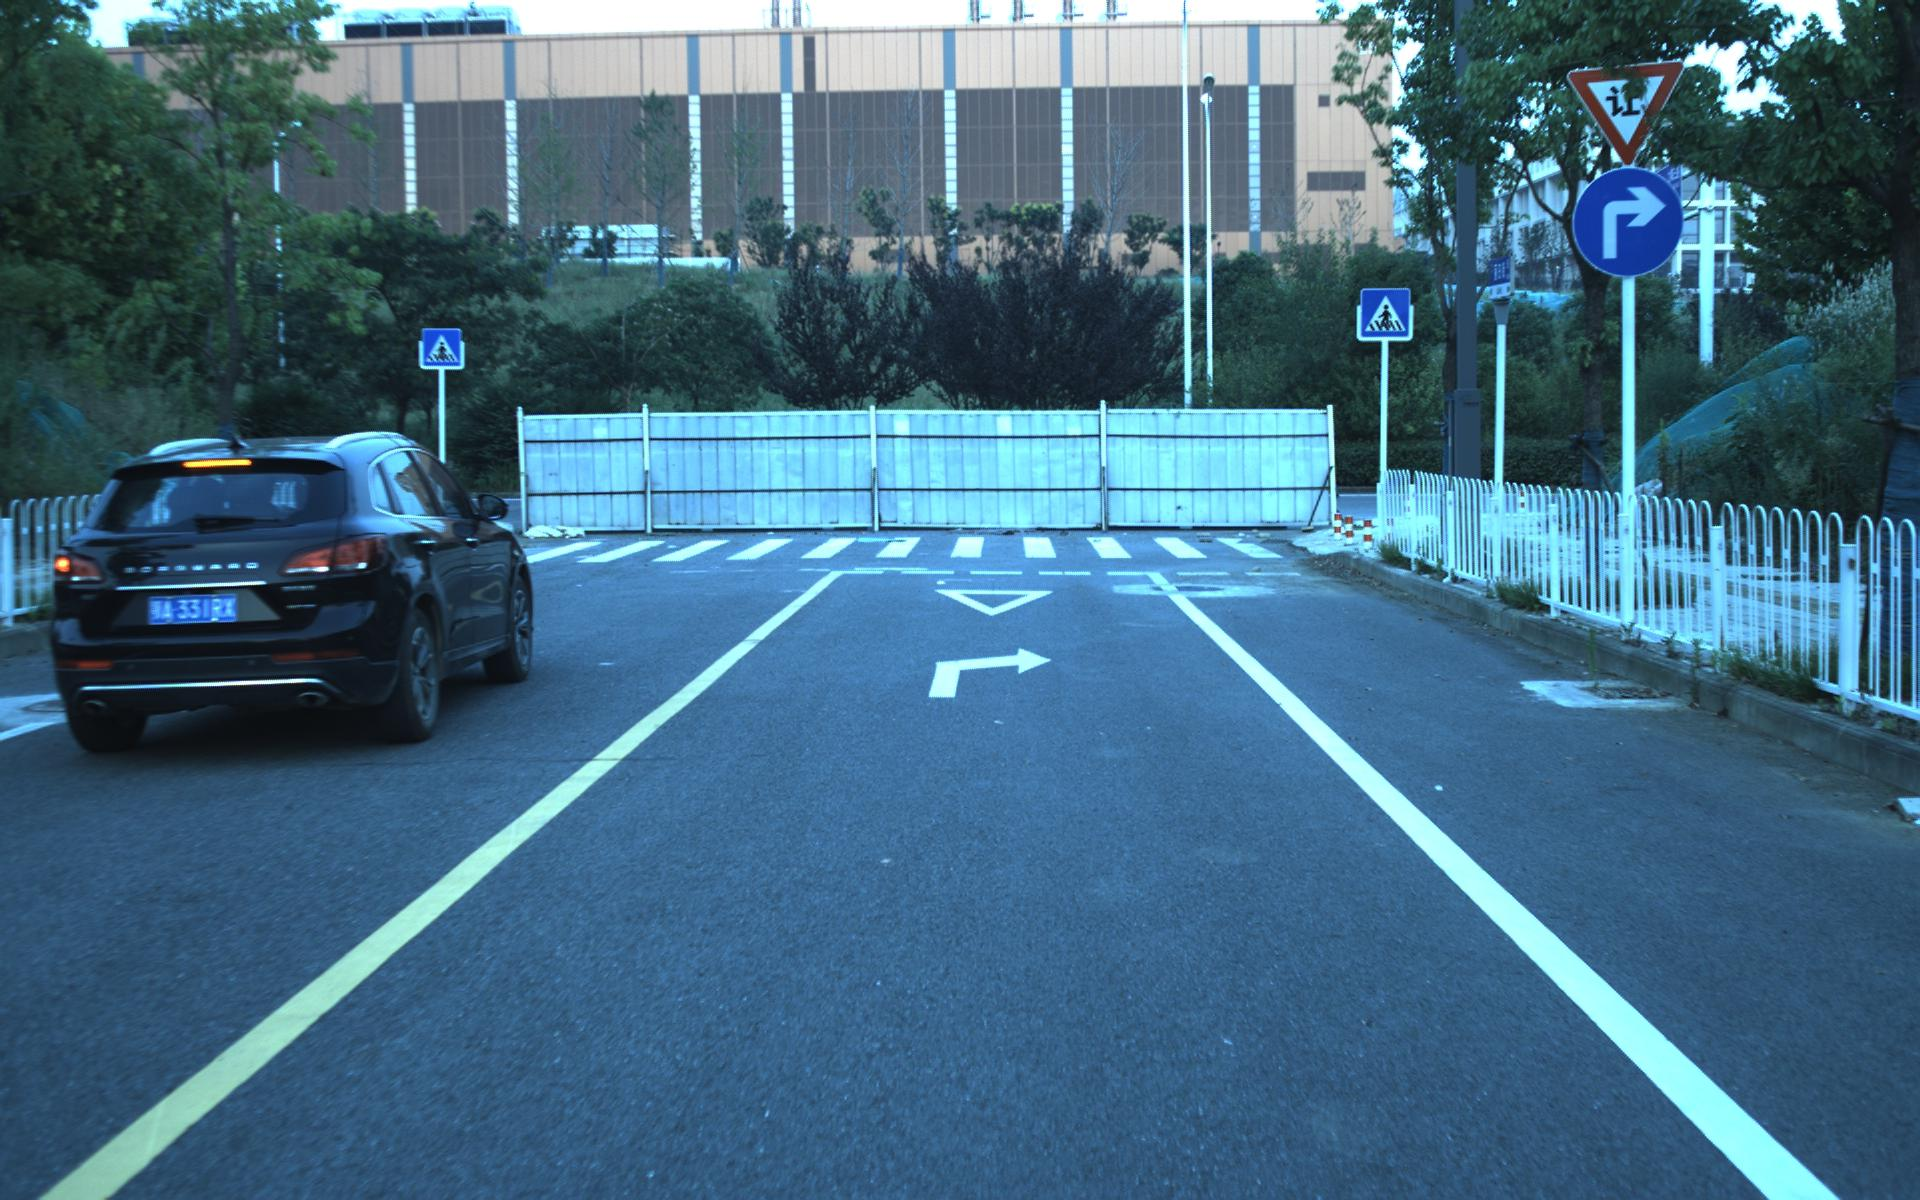Car: (32, 418, 543, 759)
